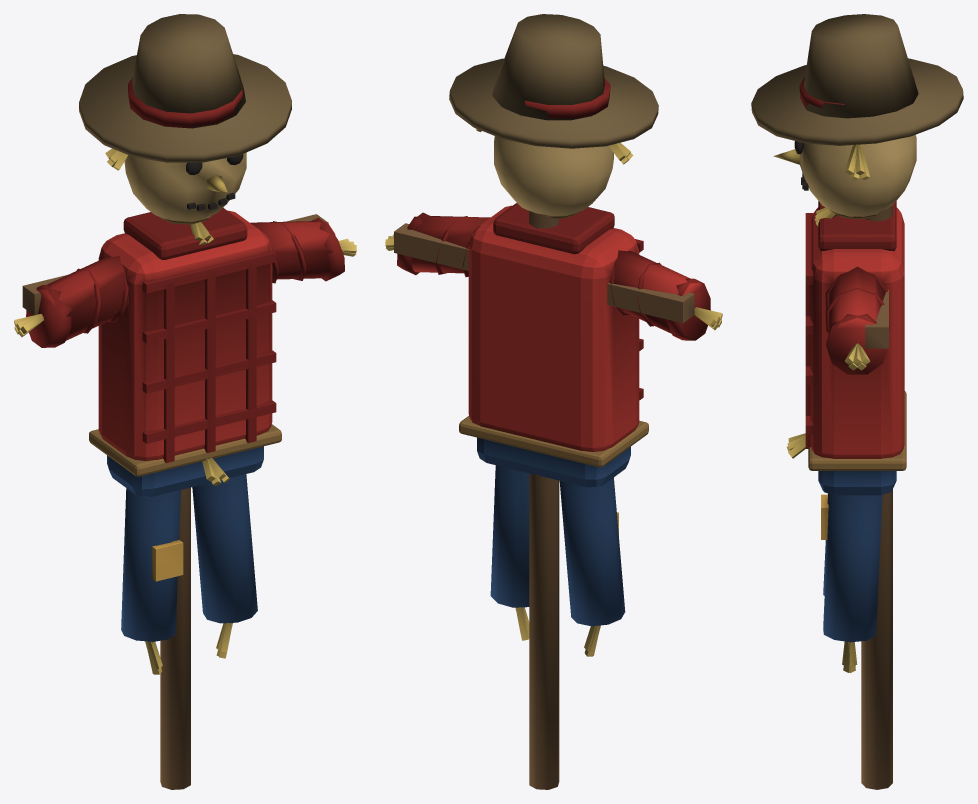
Rendered from scarecrow.glb.
3 views of the same model, side by side, from view 1: azimuth 30°, elevation 25°; view 2: azimuth 150°, elevation 25°; view 3: azimuth 270°, elevation 25° (orthographic).
Visible parts, largest first — view 1: scarecrow; view 2: scarecrow; view 3: scarecrow.
Boxes of the visible parts, x1,y1,x2,y2 form: scarecrow: (14, 14, 356, 789); scarecrow: (385, 14, 722, 789); scarecrow: (751, 14, 963, 789).
Bounding box in the file's own units: 0.9854 × 2.13 × 0.5404.
